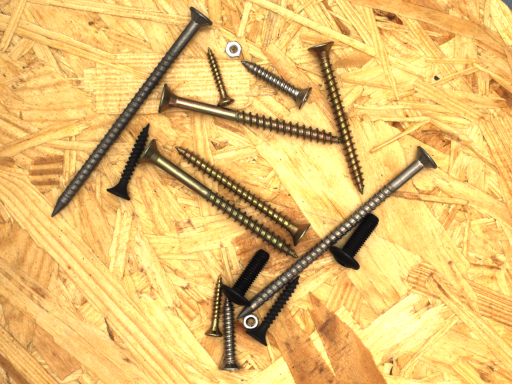screw_long: (216, 130, 453, 344), (32, 0, 221, 235)
